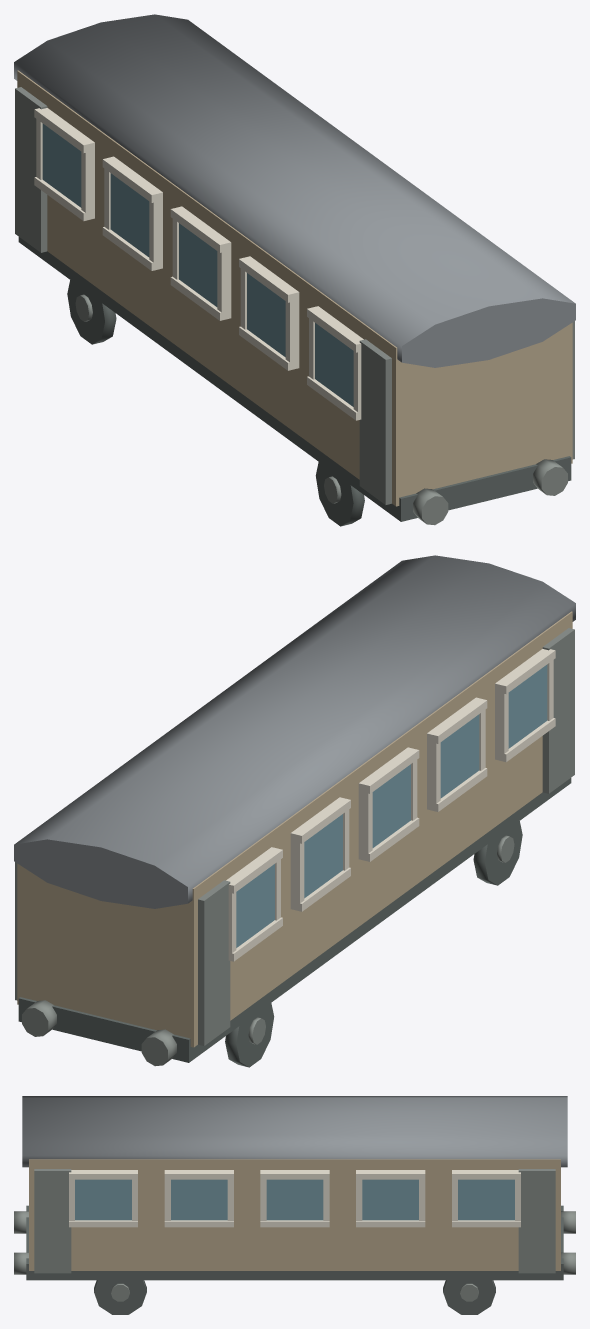
File: tyne-mail_lod1.glb
3 renders of one model, top to bottom at view 1: azimuth 30°, elevation 25°; view 2: azimuth 150°, elevation 25°; view 3: azimuth 270°, elevation 25°, orthographic. The views are drawn at different scales.
Parts seen in each view (by area): view 1: RF_CoachRoof, RF_CoachBody, RF_RoofLowerMask, RF_Chassis, RF_CarDoor.001, RF_CarDoor.002, RF_Window.004, RF_Window.005, RF_Window.002, RF_Window.001, RF_Window.003, RF_Wheel.003 (+16 smaller); view 2: RF_CoachRoof, RF_CoachBody, RF_RoofLowerMask, RF_Chassis, RF_CarDoor.002, RF_CarDoor.001, RF_Window.001, RF_Window.002, RF_Window.004, RF_Window.003, RF_Window.005, RF_Wheel.001 (+16 smaller); view 3: RF_CoachRoof, RF_CoachBody, RF_Chassis, RF_CarDoor.003, RF_CarDoor, RF_Window.008, RF_Window.006, RF_Window.007, RF_Window.009, RF_Window, RF_RoofLowerMask, RF_Wheel.002 (+21 smaller).
Part boxes in pixels (x1=…): RF_CoachRoof: x1=14, y1=14, x2=575, y2=367; RF_CoachBody: x1=17, y1=70, x2=572, y2=506; RF_RoofLowerMask: x1=17, y1=78, x2=572, y2=439; RF_Chassis: x1=18, y1=237, x2=571, y2=521; RF_CarDoor.001: x1=359, y1=339, x2=391, y2=504; RF_CarDoor.002: x1=15, y1=87, x2=47, y2=252; RF_Window.004: x1=110, y1=173, x2=149, y2=257; RF_Window.005: x1=42, y1=123, x2=81, y2=207; RF_Window.002: x1=247, y1=273, x2=285, y2=357; RF_Window.001: x1=315, y1=323, x2=353, y2=406; RF_Window.003: x1=179, y1=223, x2=217, y2=306; RF_Wheel.003: x1=67, y1=280, x2=116, y2=344; RF_CoachRoof: x1=14, y1=555, x2=575, y2=908; RF_CoachBody: x1=17, y1=611, x2=572, y2=1047; RF_RoofLowerMask: x1=17, y1=619, x2=572, y2=980; RF_Chassis: x1=18, y1=778, x2=571, y2=1062; RF_CarDoor.002: x1=198, y1=880, x2=230, y2=1045; RF_CarDoor.001: x1=542, y1=628, x2=574, y2=793; RF_Window.001: x1=508, y1=664, x2=547, y2=748; RF_Window.002: x1=440, y1=714, x2=479, y2=798; RF_Window.004: x1=304, y1=814, x2=342, y2=898; RF_Window.003: x1=372, y1=764, x2=410, y2=847; RF_Window.005: x1=236, y1=864, x2=274, y2=947; RF_Wheel.001: x1=473, y1=821, x2=522, y2=885; RF_CoachRoof: x1=22, y1=1096, x2=567, y2=1167; RF_CoachBody: x1=29, y1=1159, x2=560, y2=1270; RF_Chassis: x1=26, y1=1205, x2=563, y2=1280; RF_CarDoor.003: x1=34, y1=1169, x2=71, y2=1273; RF_CarDoor: x1=518, y1=1169, x2=555, y2=1273; RF_Window.008: x1=266, y1=1179, x2=323, y2=1220; RF_Window.006: x1=75, y1=1179, x2=131, y2=1220; RF_Window.007: x1=171, y1=1179, x2=227, y2=1220; RF_Window.009: x1=362, y1=1179, x2=418, y2=1220; RF_Window: x1=458, y1=1179, x2=514, y2=1220; RF_RoofLowerMask: x1=29, y1=1164, x2=560, y2=1223; RF_Wheel.002: x1=94, y1=1280, x2=146, y2=1314.
Bounding box in the file's own units: 3.16 × 3.73 × 10.98.
